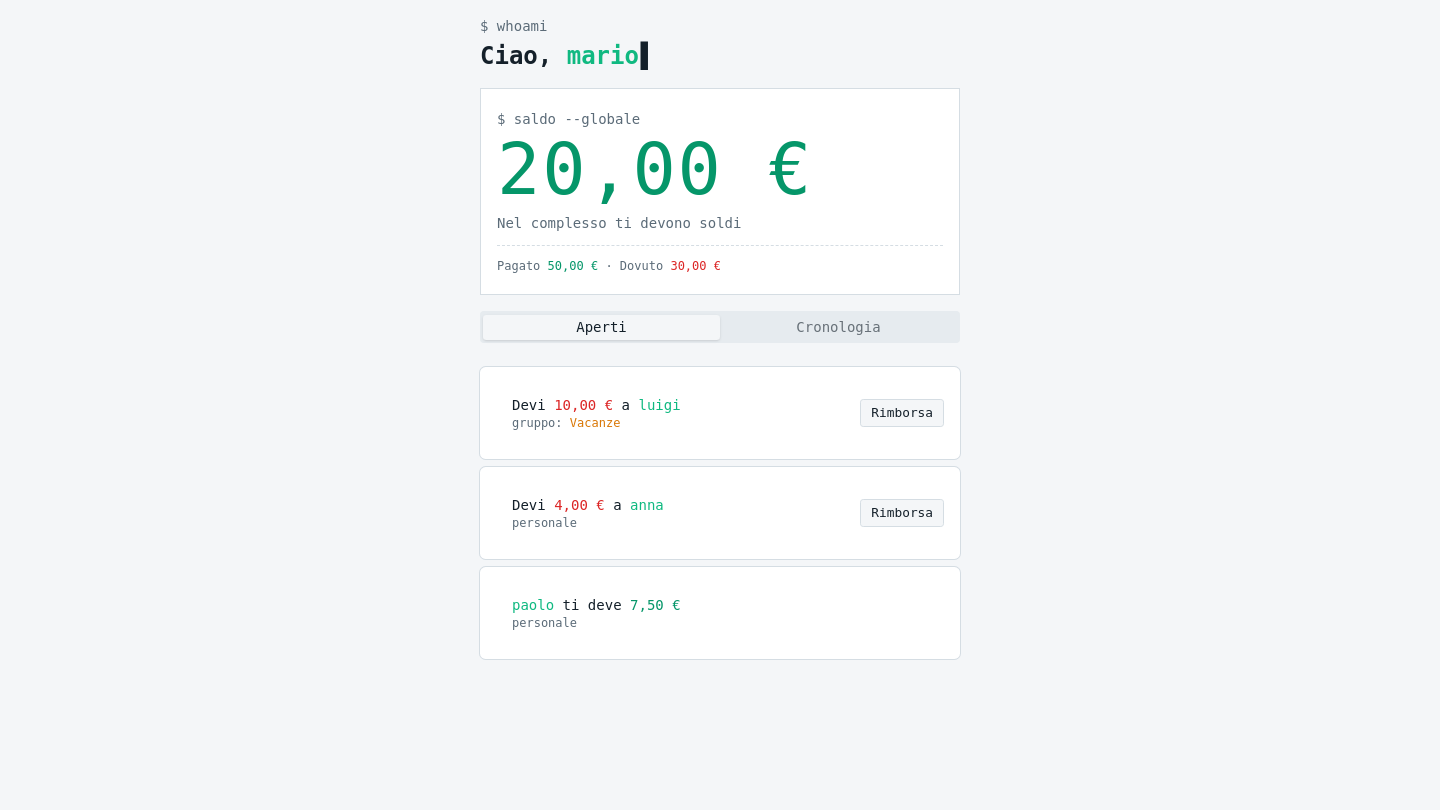
it: HomePage › al 409 mostra il messaggio del backend nel dialog
Click the 1st button "Rimborsa".
click(902, 413)  # box left=860, top=399, right=944, bottom=427
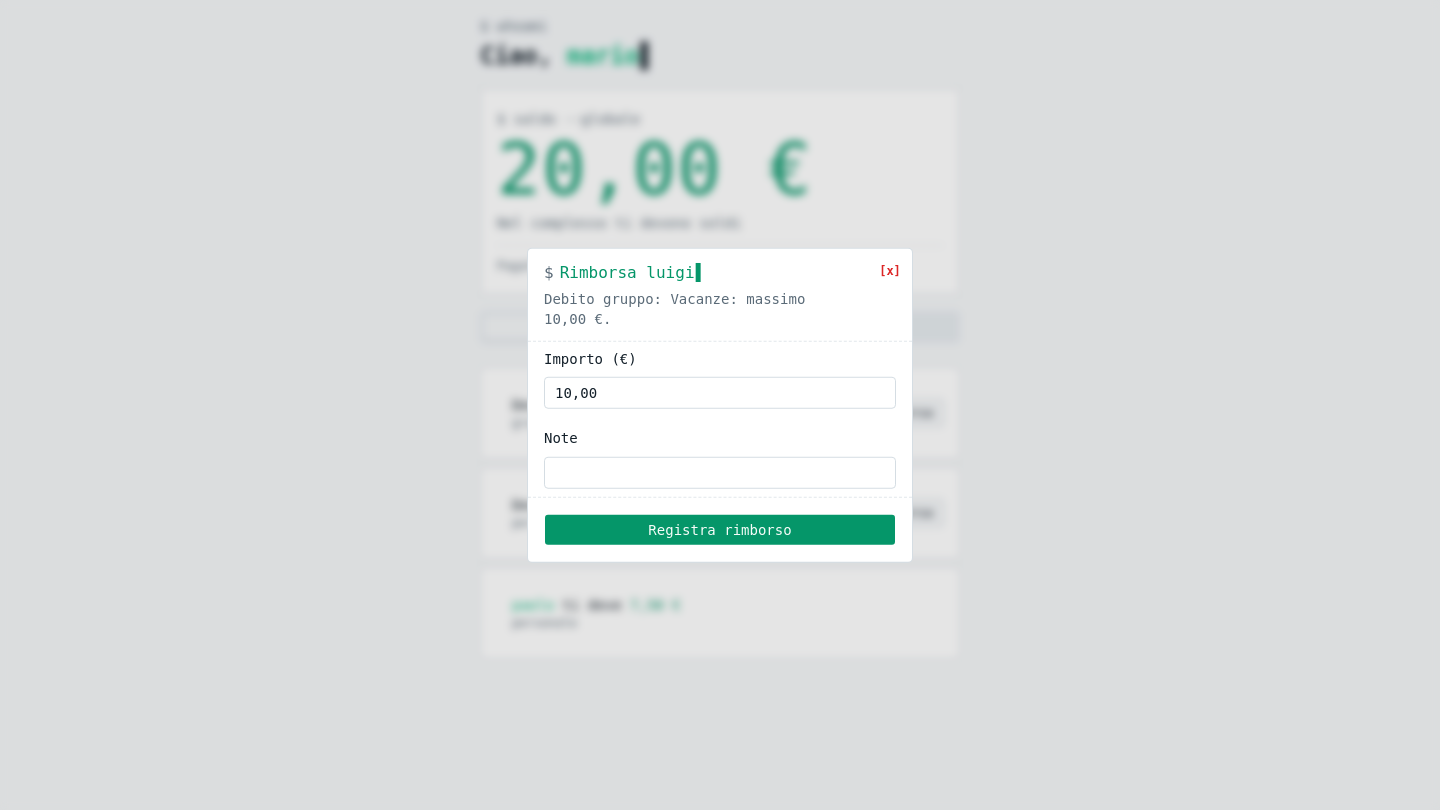
Now the field labelled "Importo (€)" is shown, box left=544, top=377, right=896, bottom=409
Submit the form, box left=544, top=350, right=896, bottom=488
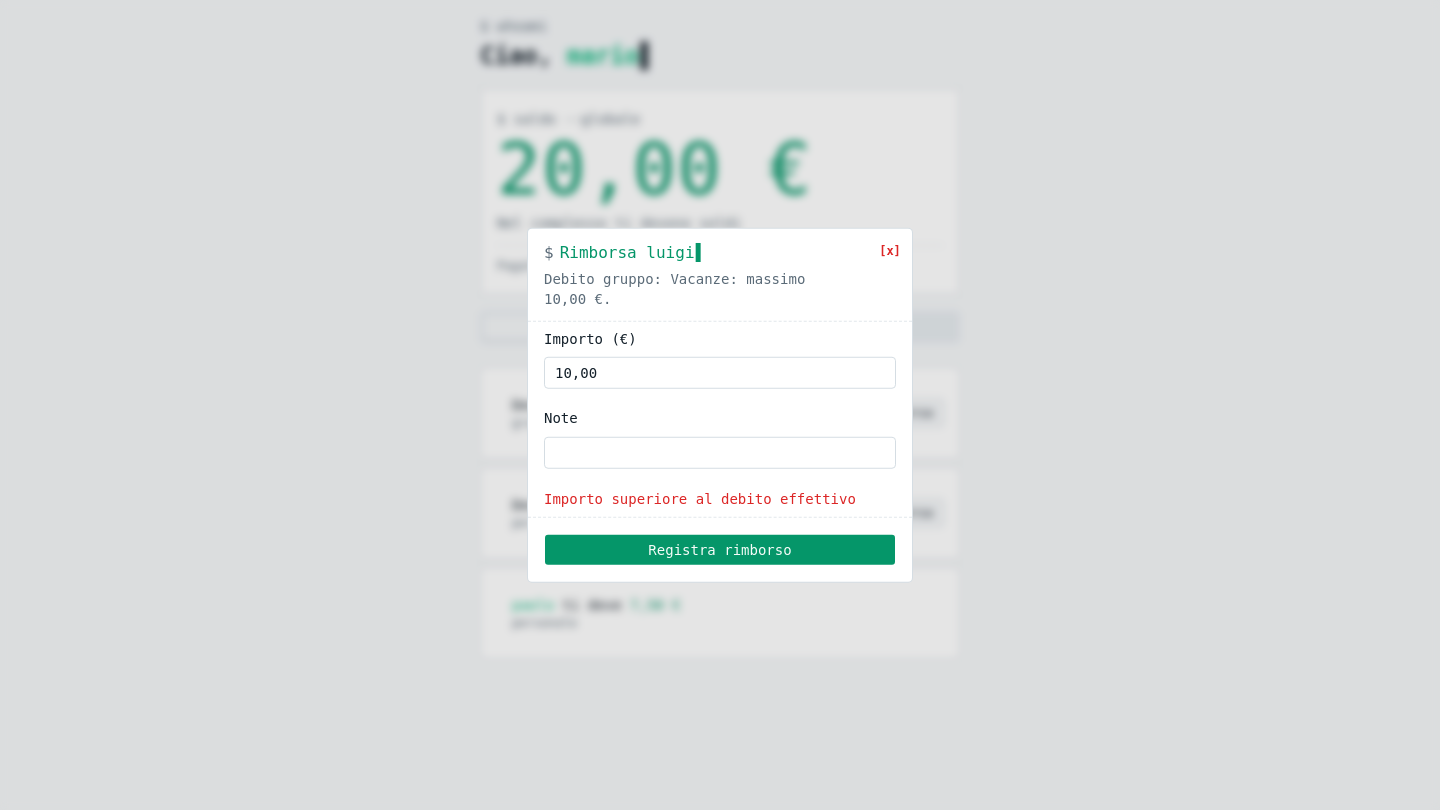
Now the text "Importo superiore al debito effettivo" is shown, box left=544, top=488, right=896, bottom=508
